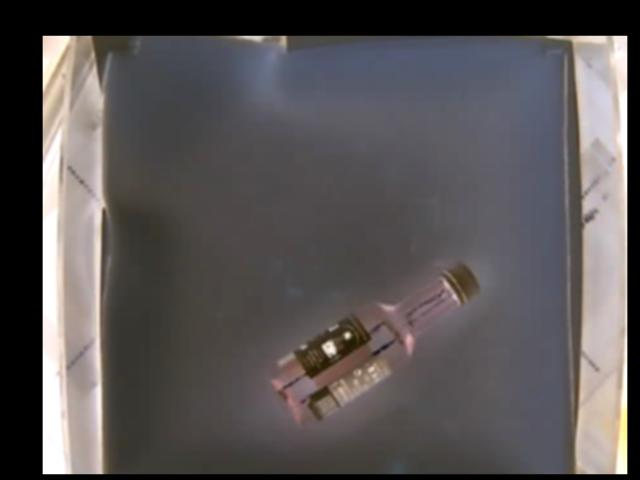Bottle: (272, 262, 479, 423)
